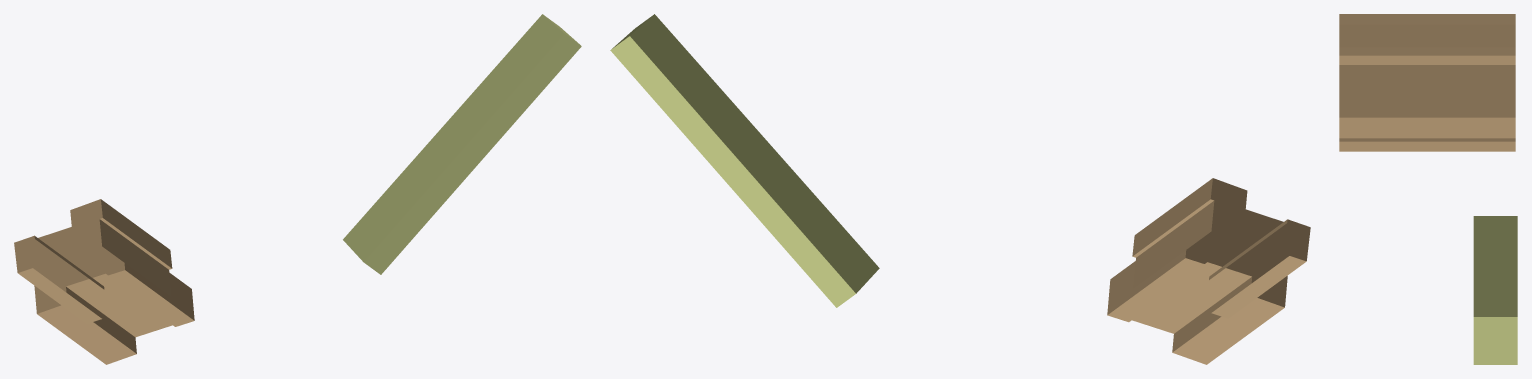
3 renders of one model, left to right at view 1: azimuth 30°, elevation 25°; view 2: azimuth 150°, elevation 25°; view 3: azimuth 270°, elevation 25°, orthographic. The views are drawn at different scales.
Visible parts, largest first — view 1: 0_0_1_3_1_2_0; view 2: 0_0_1_3_1_2_0; view 3: 0_0_1_3_1_2_0.
Part boxes in pixels (x1,y1,x2,y2): 0_0_1_3_1_2_0: [14, 14, 581, 364]; 0_0_1_3_1_2_0: [610, 14, 1310, 364]; 0_0_1_3_1_2_0: [1339, 14, 1517, 364].
Bounding box in the file's own units: 110 × 39 × 24.3.
